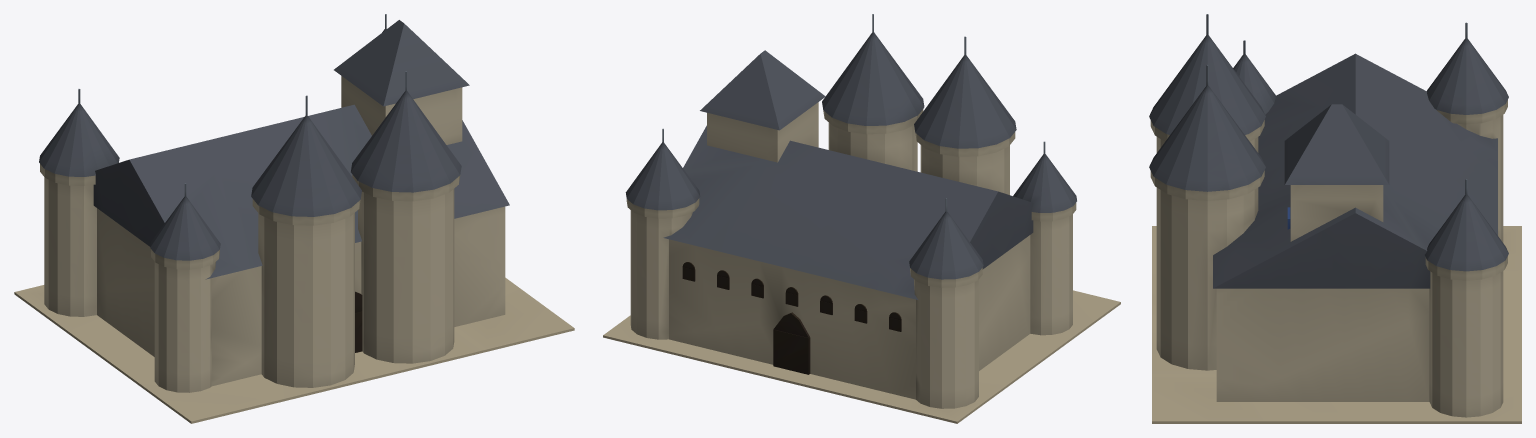
The model's file is grand-chatelet.glb.
3 views of the same model, side by side, from view 1: azimuth 30°, elevation 25°; view 2: azimuth 150°, elevation 25°; view 3: azimuth 270°, elevation 25° (orthographic). The views are drawn at different scales.
Parts seen in each view (by area): view 1: p1_towers, p0_walls; view 2: p0_walls, p1_towers; view 3: p0_walls, p1_towers.
Boxes of the visible parts, box(x1,y1,x2,y2) form: p1_towers: box(39, 14, 469, 392); p0_walls: box(14, 104, 574, 423); p0_walls: box(603, 125, 1120, 423); p1_towers: box(625, 14, 1076, 408); p0_walls: box(1152, 53, 1521, 423); p1_towers: box(1149, 14, 1508, 417).
Bounding box in the file's own units: 50 × 34.18 × 40.33.
